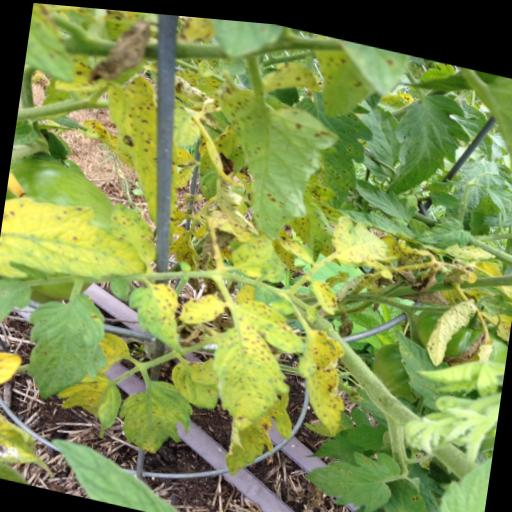Bacterial Spot: (165, 280, 312, 440), (204, 79, 341, 248), (0, 182, 156, 308), (17, 284, 113, 423), (282, 84, 378, 209), (385, 75, 477, 203), (296, 429, 410, 512), (386, 320, 480, 410), (114, 369, 196, 458), (291, 320, 353, 435), (122, 271, 193, 355), (328, 206, 402, 274), (424, 282, 480, 366), (229, 227, 290, 280), (168, 354, 222, 407), (177, 282, 228, 329), (380, 466, 432, 512), (307, 272, 342, 311)
